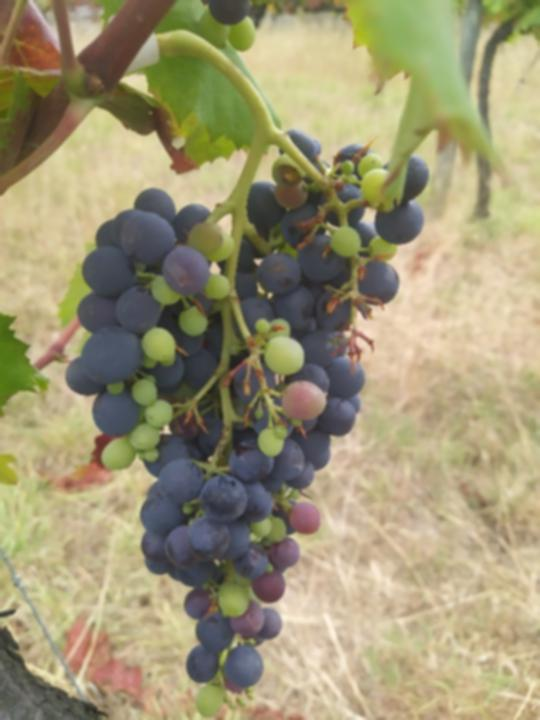grape: (63, 124, 434, 719)
